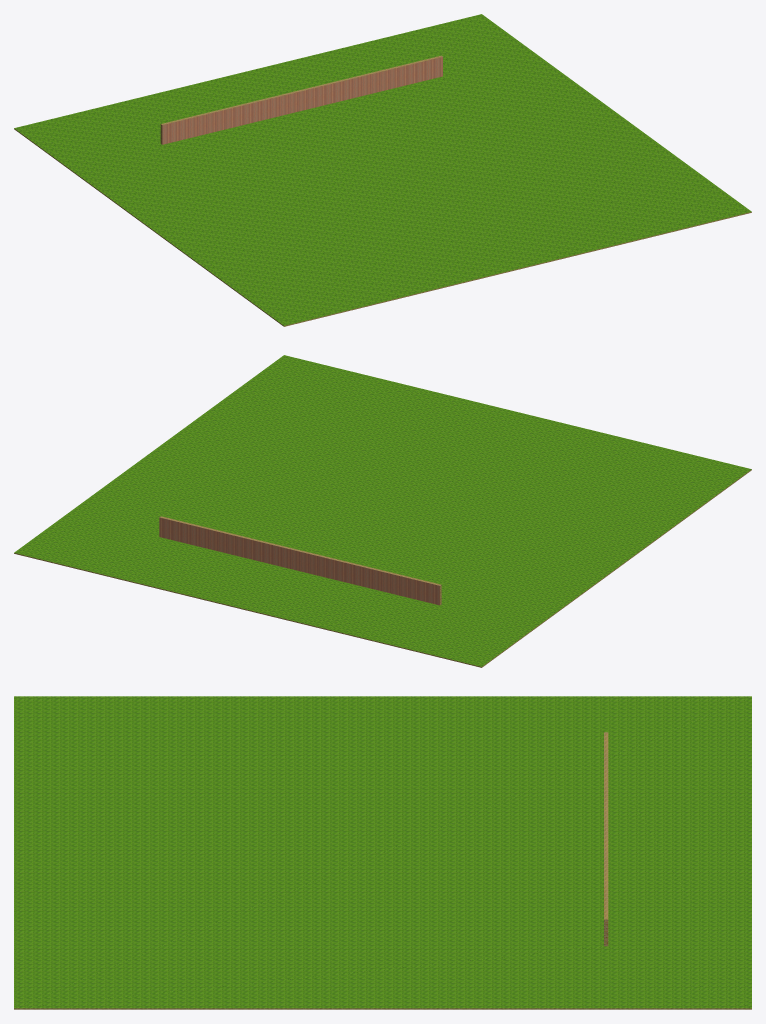
3 views of the same model, one above another, from view 1: azimuth 30°, elevation 25°; view 2: azimuth 150°, elevation 25°; view 3: azimuth 270°, elevation 25° (orthographic). The views are drawn at different scales.
Visible parts, largest first — view 1: root; view 2: root; view 3: root.
Part boxes in pixels (x1=…): root: x1=14, y1=14, x2=751, y2=326; root: x1=14, y1=355, x2=751, y2=667; root: x1=14, y1=696, x2=751, y2=1009.
Bounding box in the file's own units: 50 × 2.1 × 50.
Materials: 3 (3 with a texture image).
